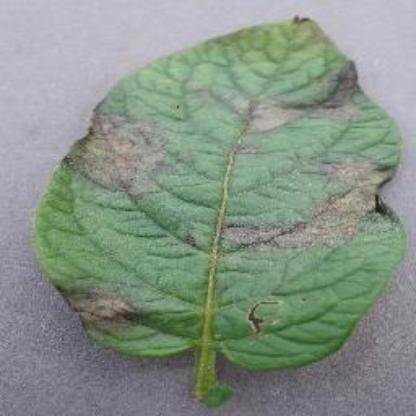Late-Blight: (24, 10, 410, 406)
